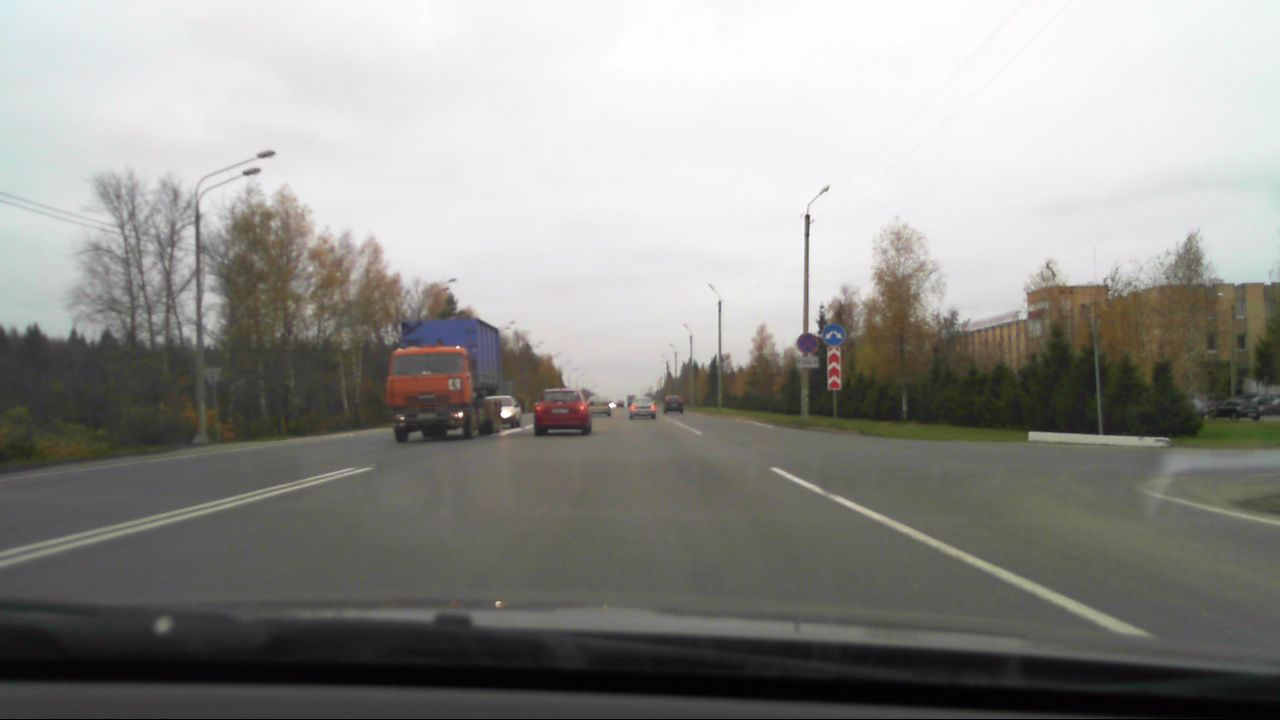No Parking: (795, 332, 818, 356)
